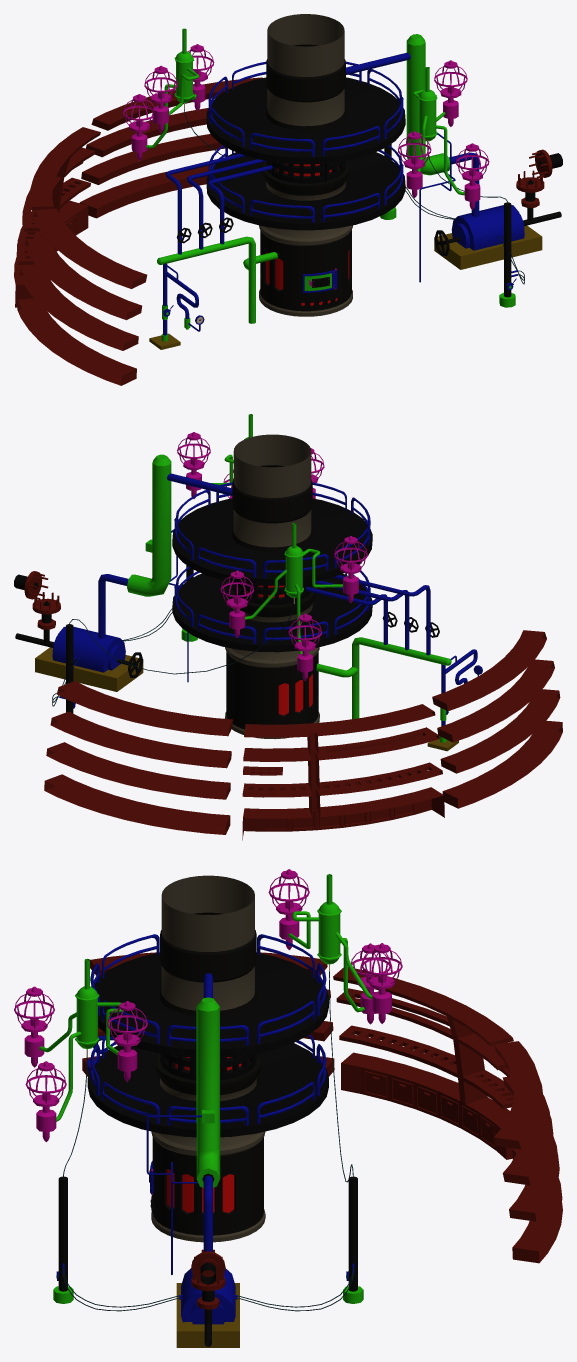
File: Main.fbx
3 views of the same model, one above another, from view 1: azimuth 30°, elevation 25°; view 2: azimuth 150°, elevation 25°; view 3: azimuth 270°, elevation 25° (orthographic). The views are drawn at different scales.
Visible parts, largest first — view 1: Main; view 2: Main; view 3: Main.
Boxes of the visible parts, left/top/right/bottom form: Main: left=14, top=14, right=562, bottom=385; Main: left=14, top=414, right=562, bottom=840; Main: left=14, top=869, right=562, bottom=1347.
Bounding box in the file's own units: 1517 × 761 × 1173.
